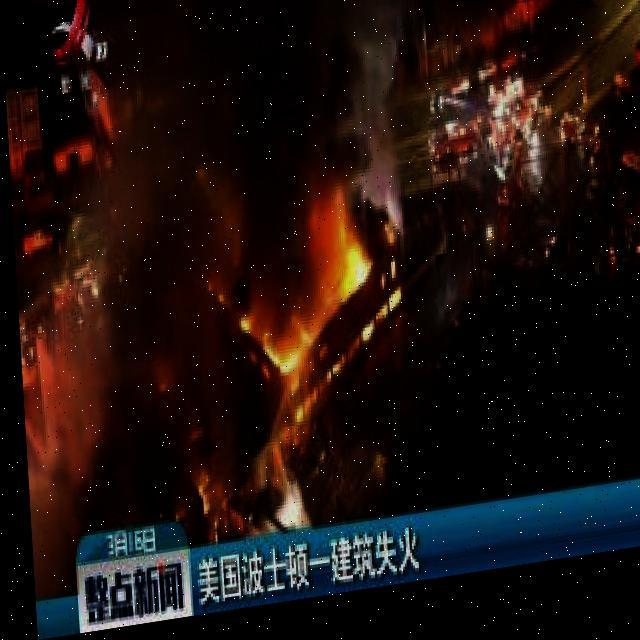Fire: (184, 194, 396, 438)
